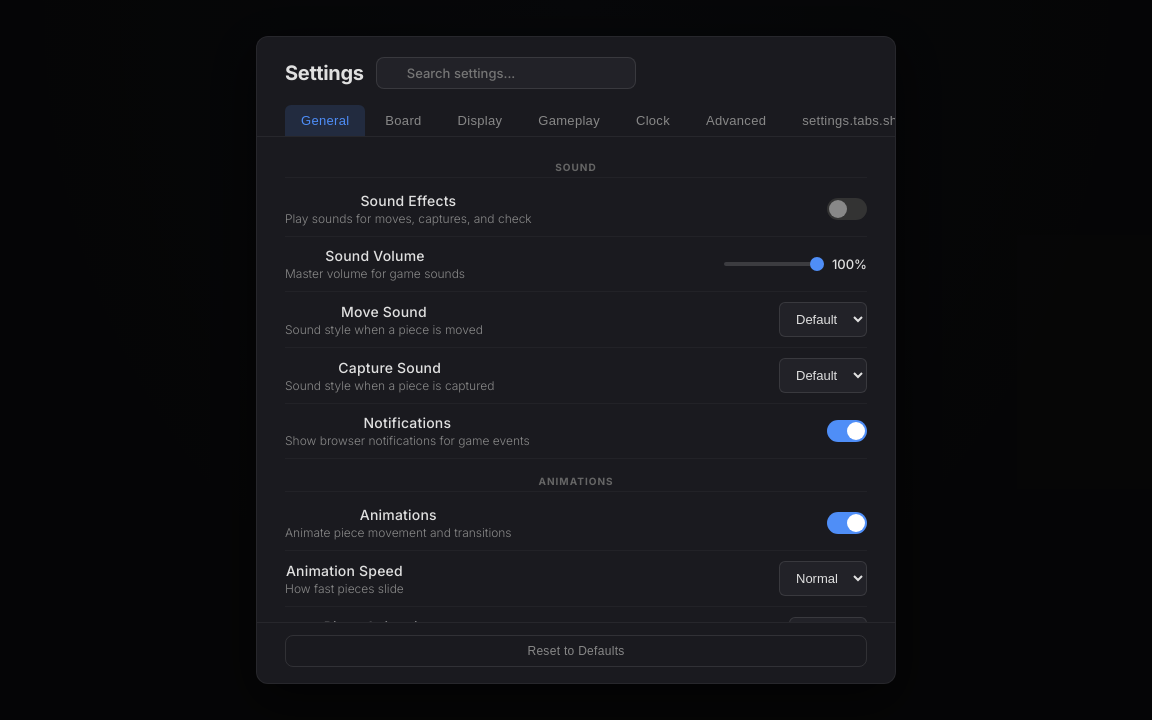
Test: SettingsDialog › display tab has best move hint toggle
Click the button "Display": (480, 120) [442,105,518,136]
(page scrolled)
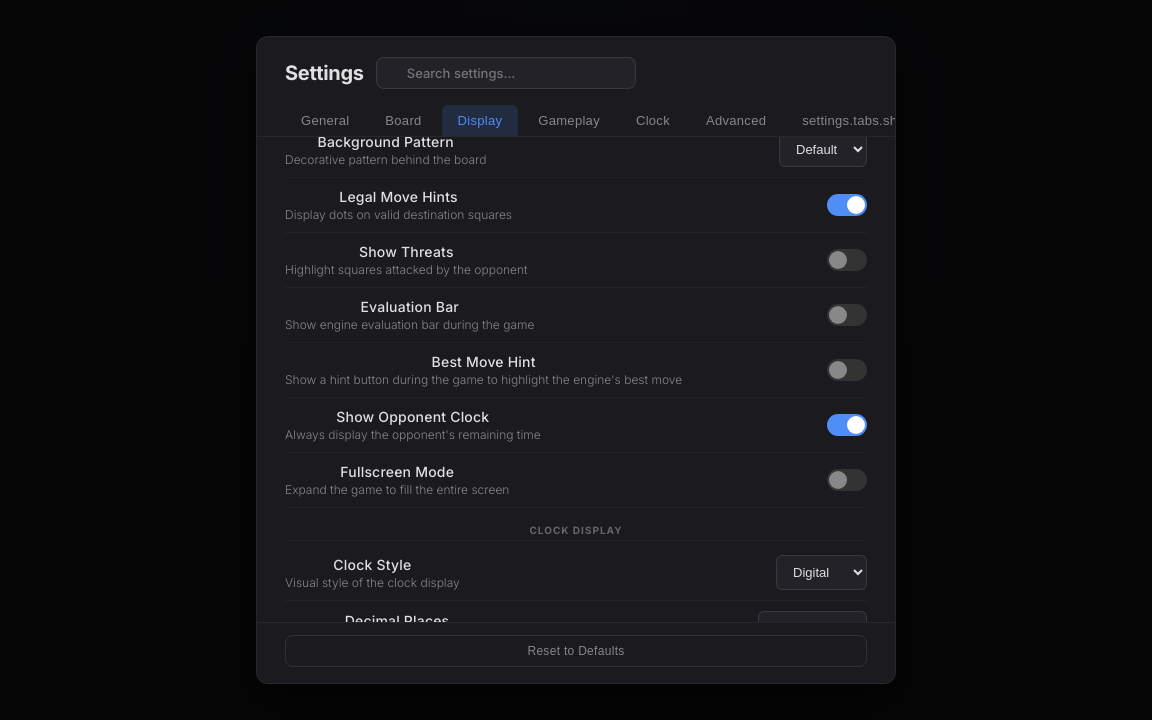
Now the text "Best Move Hint" is shown, box [432,353,536,370]
Now the text "Show a hint button during the game to highlight the engine's best move" is shown, box [285,372,682,387]
